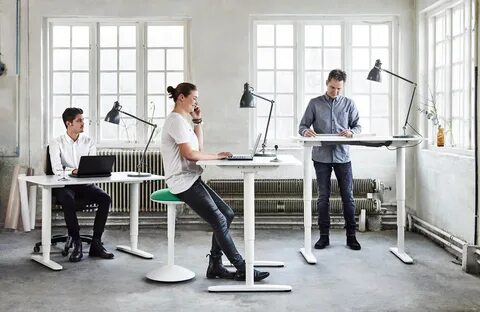awake: (159, 81, 270, 282), (298, 68, 362, 251), (48, 106, 115, 263)
